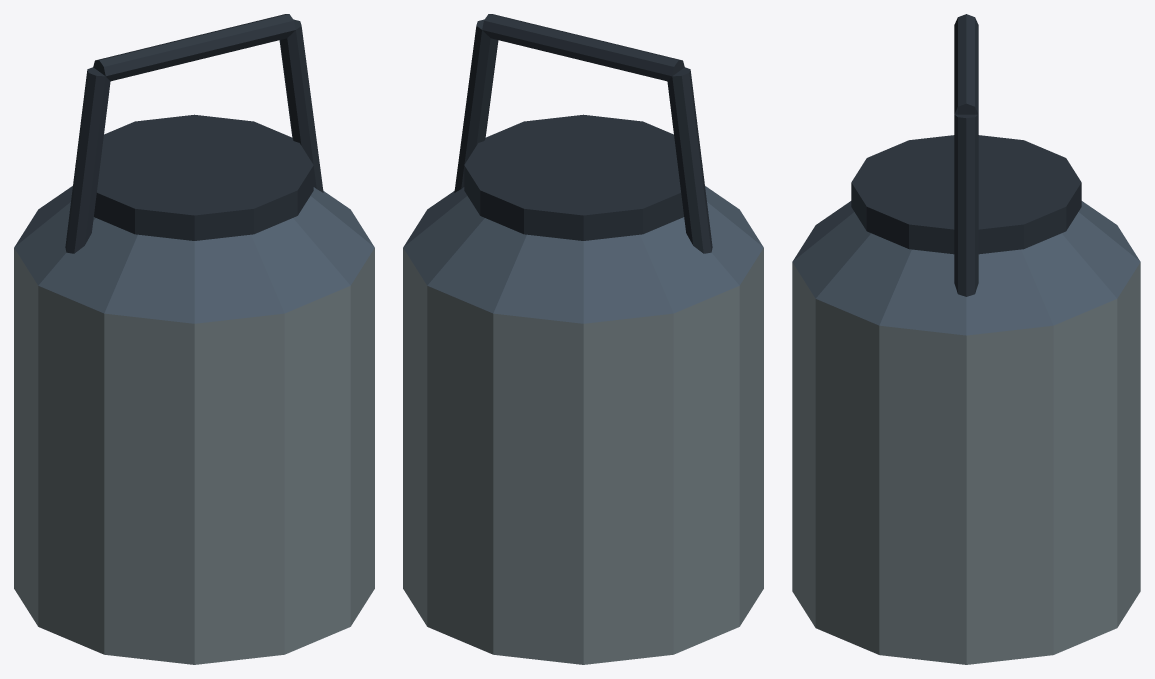
File: L-05_milk_churn.glb
3 renders of one model, left to right at view 1: azimuth 30°, elevation 25°; view 2: azimuth 150°, elevation 25°; view 3: azimuth 270°, elevation 25°, orthographic. The views are drawn at different scales.
Visible parts, largest first — view 1: L-05_milk_churn; view 2: L-05_milk_churn; view 3: L-05_milk_churn.
Part boxes in pixels (bbox=[...]): L-05_milk_churn: bbox=[14, 14, 374, 664]; L-05_milk_churn: bbox=[403, 14, 763, 664]; L-05_milk_churn: bbox=[792, 14, 1140, 664].
Size of the model in its own units: 0.23 by 0.388 by 0.23.
